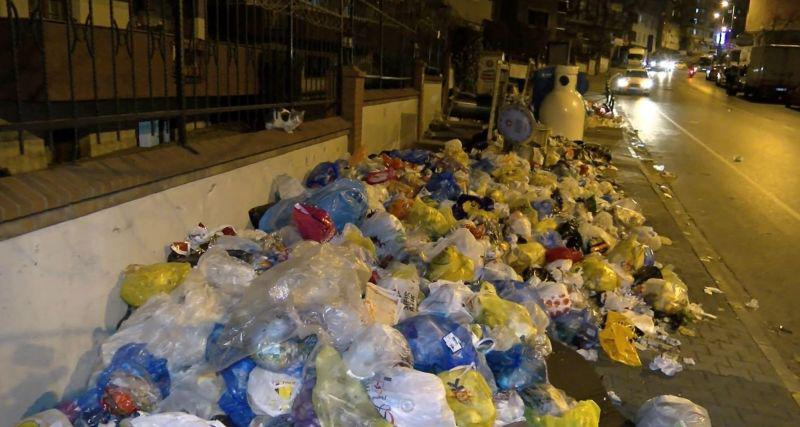Garbage: (126, 270, 433, 427), (405, 141, 601, 319), (501, 202, 675, 366), (355, 316, 607, 422), (184, 226, 338, 337), (281, 173, 427, 282), (355, 142, 474, 233), (28, 396, 146, 427), (639, 396, 706, 427)
